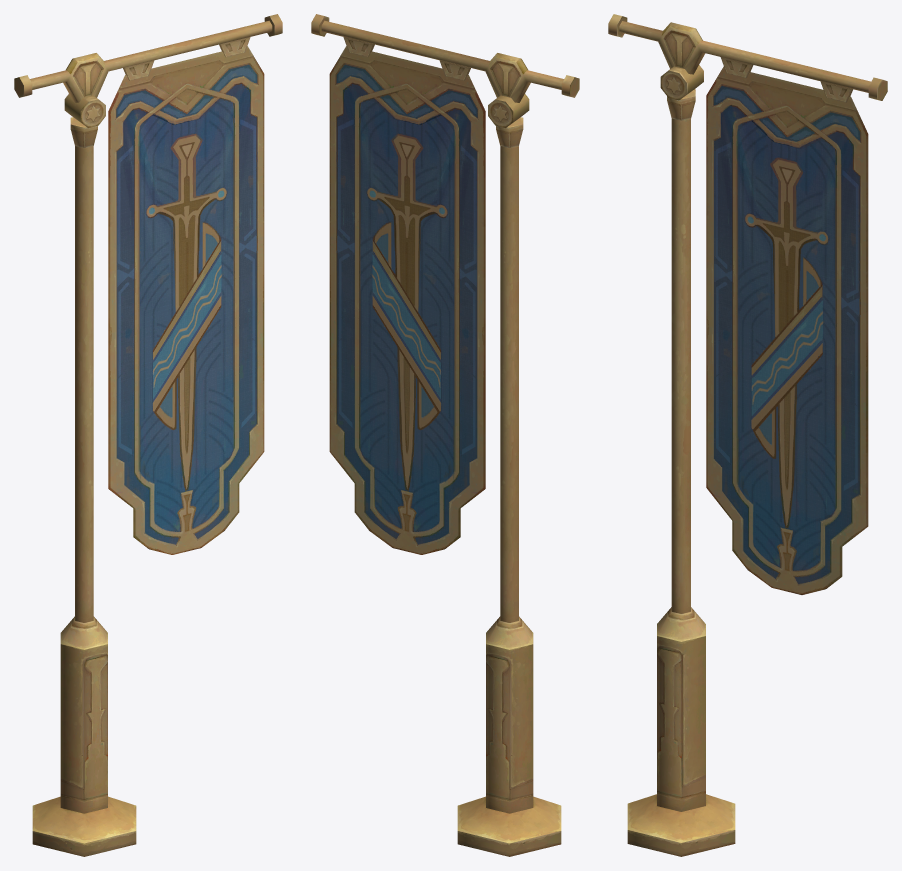
The model's file is Homeworld_Exterior_Fd_Decoration_Prop_JdfbQizi_01_Vo.fbx.
The picture shows the model from 3 angles, left to right: view 1: azimuth 30°, elevation 25°; view 2: azimuth 150°, elevation 25°; view 3: azimuth 330°, elevation 25°; orthographic projection. The views are drawn at different scales.
Visible parts, largest first — view 1: Area_Fd_Prop_FDC_Jdfbwujian_01_Vo; view 2: Area_Fd_Prop_FDC_Jdfbwujian_01_Vo; view 3: Area_Fd_Prop_FDC_Jdfbwujian_01_Vo.
Boxes of the visible parts, x1,y1,x2,y2 form: Area_Fd_Prop_FDC_Jdfbwujian_01_Vo: [14, 14, 282, 856]; Area_Fd_Prop_FDC_Jdfbwujian_01_Vo: [311, 14, 579, 856]; Area_Fd_Prop_FDC_Jdfbwujian_01_Vo: [608, 14, 887, 856].
Bounding box in the file's own units: 2.18 × 6.26 × 0.7583.
